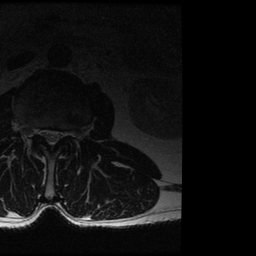CCS_normal: (47, 121, 54, 155)
LFS_stenosis: (63, 123, 71, 144)
LLS_stenosis: (54, 124, 62, 147)
RFS_normal: (31, 121, 40, 142)
RLS_normal: (40, 121, 47, 146)
